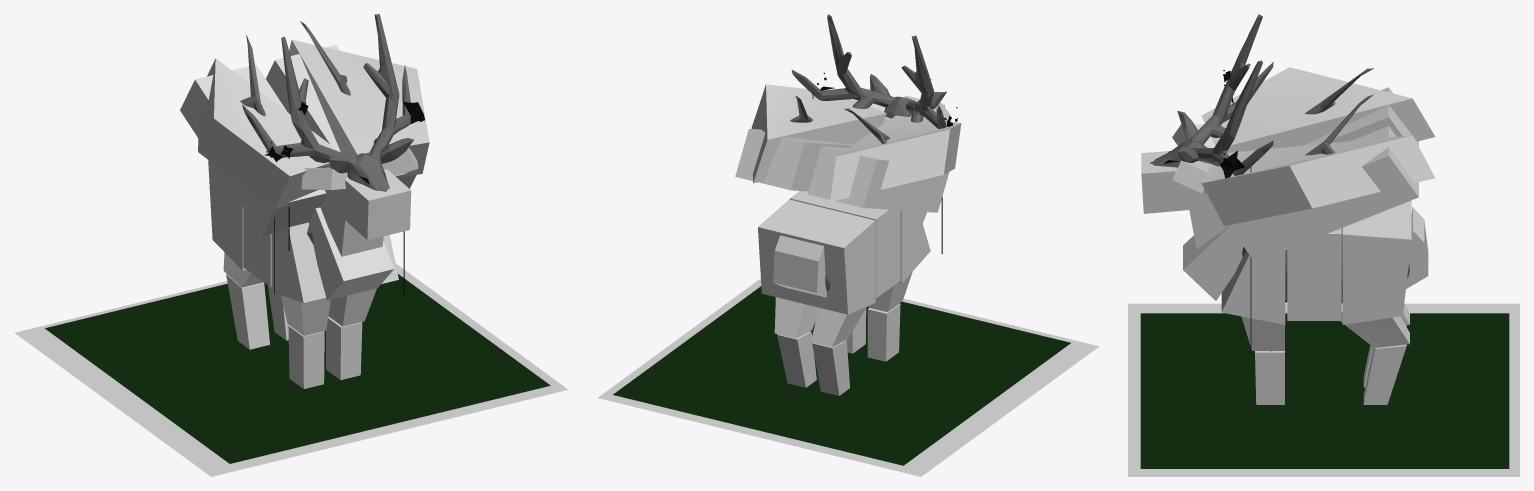
The model's file is RIG_Moose01_Mythical.FBX.
3 renders of one model, left to right at view 1: azimuth 30°, elevation 25°; view 2: azimuth 150°, elevation 25°; view 3: azimuth 270°, elevation 25°, orthographic. The views are drawn at different scales.
Visible parts, largest first — view 1: UnderDeerMoose, SKEL_Root, SKEL_HeadHorns_R, SKEL_HeadHorns_L, MythicalMooseDeerHorns, SKEL_ChestHorns_R, SKEL_Head, SKEL_NeckLower, SKEL_Chest, SKEL_Butt, SKEL_ChestHorns_L, SKEL_Leg_R_Rear_Lower (+11 smaller); view 2: UnderDeerMoose, SKEL_Root, SKEL_Butt, SKEL_HeadHorns_R, SKEL_HeadHorns_L, SKEL_ChestHorns_R, MythicalMooseDeerHorns, SKEL_ChestHorns_L, SKEL_Belly, SKEL_Tail, SKEL_Leg_R_Front_Lower, SKEL_Leg_L_Rear_Lower (+6 smaller); view 3: UnderDeerMoose, SKEL_HeadHorns_L, SKEL_Root, SKEL_HeadHorns_R, SKEL_Butt, SKEL_ChestHorns_L, MythicalMooseDeerHorns, SKEL_Belly, SKEL_Chest, SKEL_NeckLower, SKEL_Head, SKEL_Leg_L_Rear_Lower (+9 smaller).
Part boxes in pixels (x1,y1,x2,y2): UnderDeerMoose: (45, 274, 550, 463); SKEL_Root: (14, 263, 568, 476); SKEL_HeadHorns_R: (198, 58, 340, 209); SKEL_HeadHorns_L: (289, 39, 429, 176); MythicalMooseDeerHorns: (240, 14, 410, 164); SKEL_ChestHorns_R: (180, 64, 326, 235); SKEL_Head: (323, 169, 411, 240); SKEL_NeckLower: (309, 207, 394, 300); SKEL_Chest: (271, 222, 398, 302); SKEL_Butt: (208, 160, 246, 270); SKEL_ChestHorns_L: (266, 45, 416, 188); SKEL_Leg_R_Rear_Lower: (226, 274, 269, 349); UnderDeerMoose: (613, 286, 1070, 465); SKEL_Root: (598, 278, 1098, 476); SKEL_Butt: (758, 199, 875, 314); SKEL_HeadHorns_R: (830, 115, 961, 202); SKEL_HeadHorns_L: (751, 84, 886, 183); SKEL_ChestHorns_R: (807, 146, 949, 212); MythicalMooseDeerHorns: (790, 14, 946, 143); SKEL_ChestHorns_L: (735, 129, 853, 191); SKEL_Belly: (789, 191, 900, 298); SKEL_Tail: (773, 235, 826, 297); SKEL_Leg_R_Front_Lower: (867, 303, 900, 361); SKEL_Leg_L_Rear_Lower: (777, 331, 816, 387); UnderDeerMoose: (1140, 313, 1509, 468); SKEL_HeadHorns_L: (1201, 135, 1435, 225); SKEL_Root: (1128, 303, 1519, 476); SKEL_HeadHorns_R: (1201, 67, 1435, 152); SKEL_Butt: (1342, 200, 1411, 324); SKEL_ChestHorns_L: (1228, 126, 1418, 262); MythicalMooseDeerHorns: (1189, 14, 1373, 175); SKEL_Belly: (1287, 228, 1341, 320); SKEL_Chest: (1221, 251, 1285, 324); SKEL_NeckLower: (1183, 225, 1243, 300); SKEL_Head: (1141, 151, 1213, 213); SKEL_Leg_L_Rear_Lower: (1363, 344, 1406, 404).
Bounding box in the file's own units: 108 × 103 × 103.
